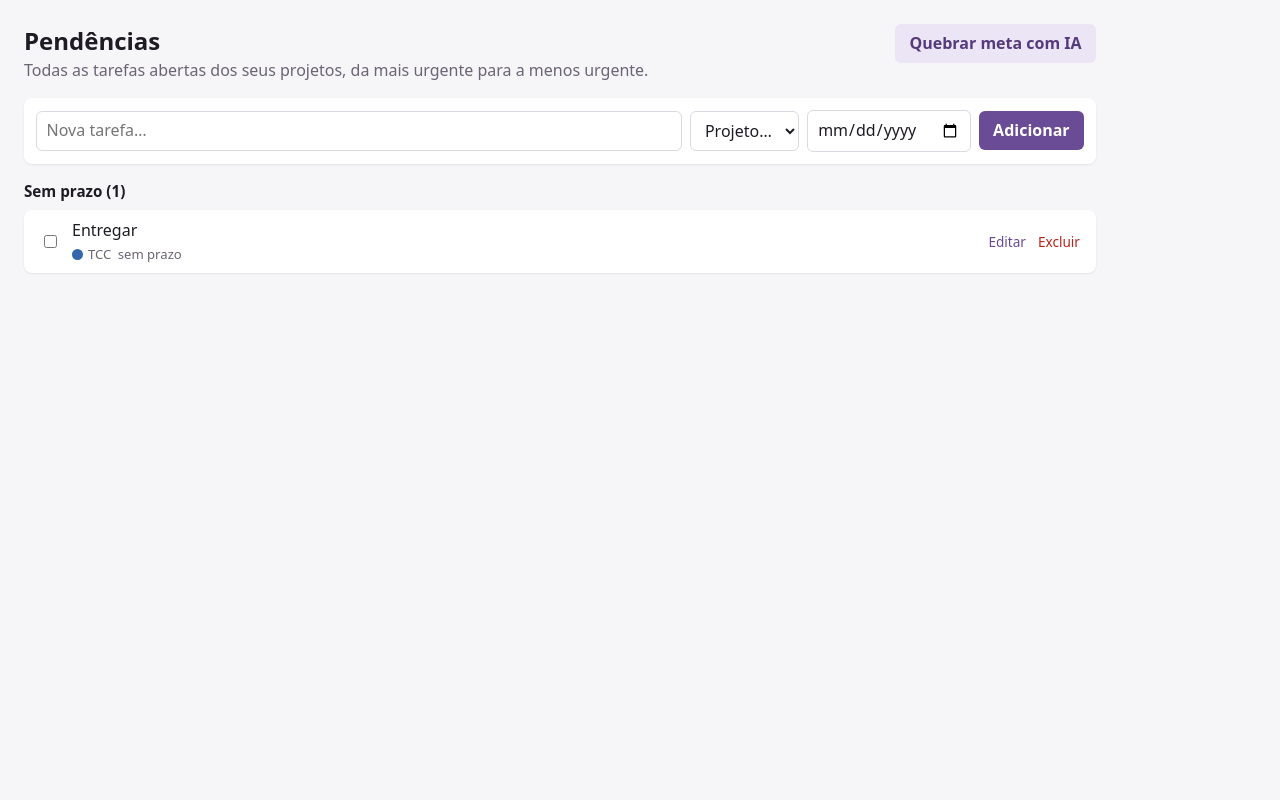
CentralView (spec H2) › abre o painel de IA sem esconder a tela
Click the button "Quebrar meta com IA": (996,44) x1=895 y1=24 x2=1096 y2=63
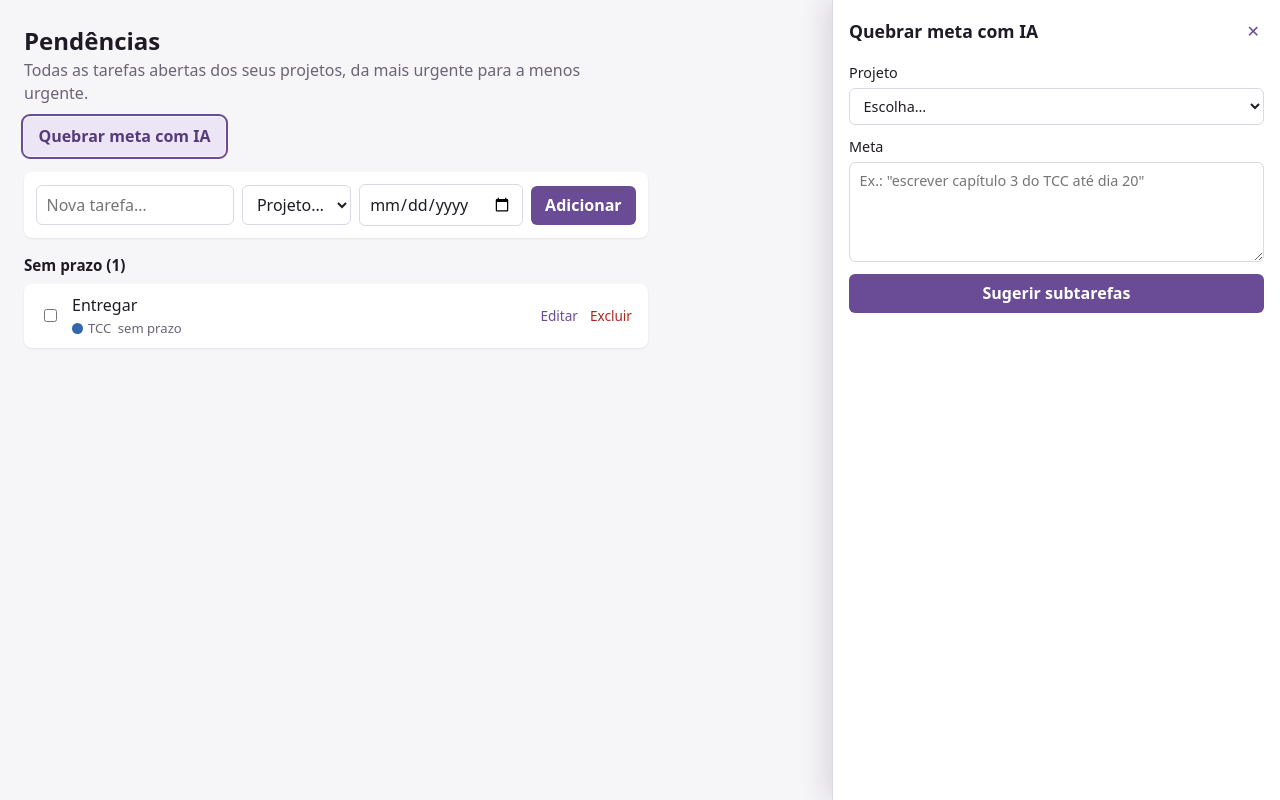
Check: the text "Entregar" is shown, box x1=72 y1=294 x2=137 y2=316
Check: the dialog "Quebrar meta com IA" is shown, box x1=832 y1=0 x2=1279 y2=799
